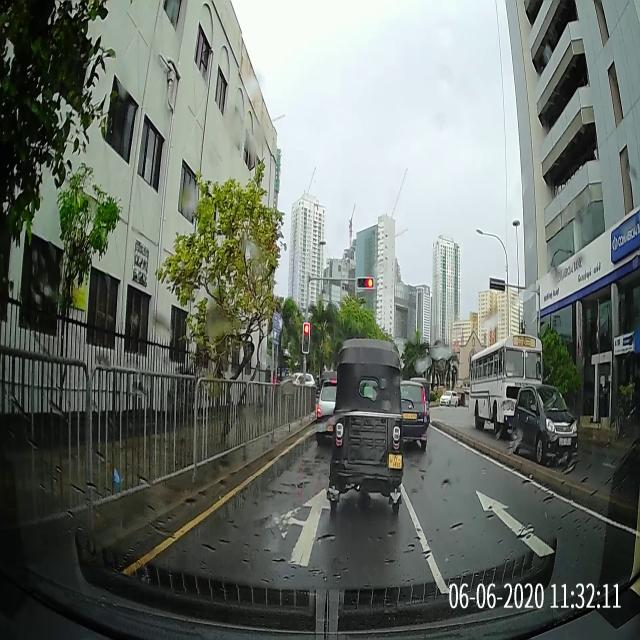forward_lft: (156, 477, 451, 588)
